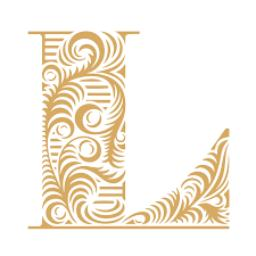l: (20, 24, 236, 240)
